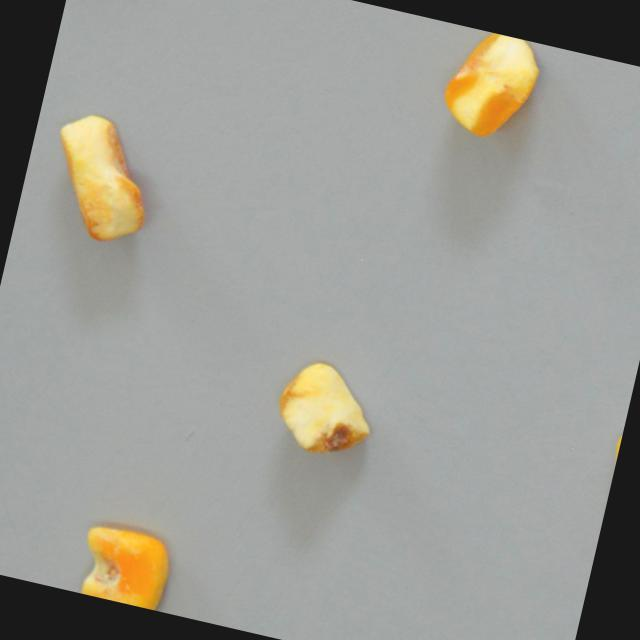dañado: (35, 104, 167, 251), (266, 351, 384, 469), (73, 518, 180, 612)
pelicula: (434, 23, 545, 144)
